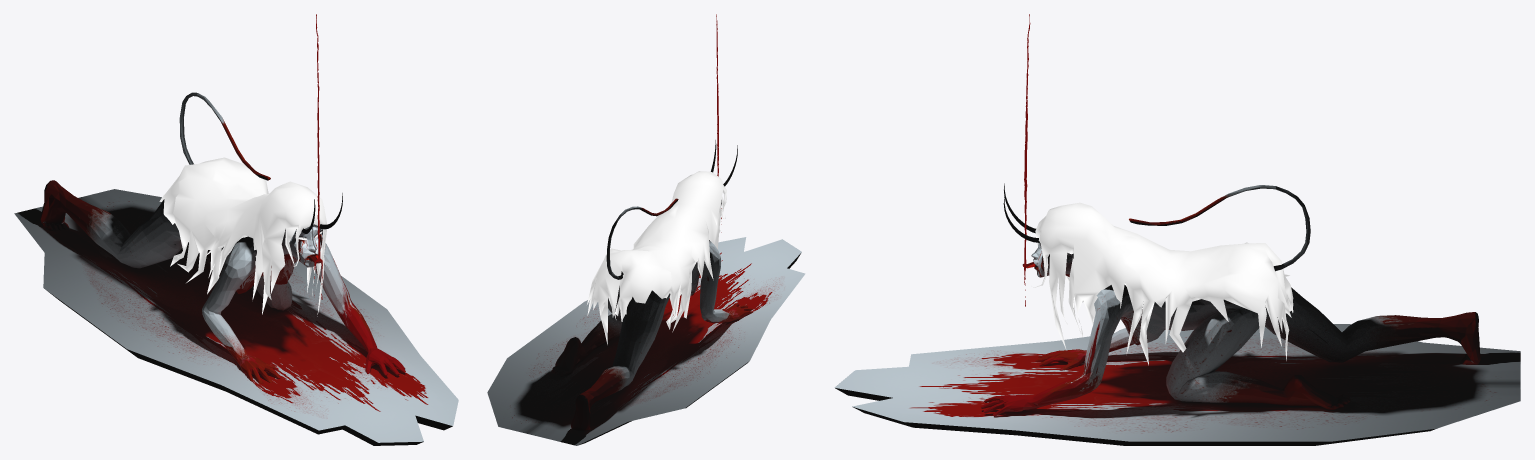
The picture shows the model from 3 angles, left to right: view 1: azimuth 30°, elevation 25°; view 2: azimuth 150°, elevation 25°; view 3: azimuth 270°, elevation 25°; orthographic projection. The views are drawn at different scales.
Parts seen in each view (by area): view 1: Plane, Desktop:Body.000, Desktop:Body.002, Cube; view 2: Plane, Desktop:Body.002, Desktop:Body.000; view 3: Plane, Desktop:Body.000, Desktop:Body.002.
Boxes of the visible parts, left/top/right/bottom form: Plane: left=14, top=189, right=458, bottom=445; Desktop:Body.000: left=40, top=92, right=405, bottom=383; Desktop:Body.002: left=159, top=157, right=330, bottom=316; Cube: left=314, top=14, right=322, bottom=299; Plane: left=487, top=237, right=805, bottom=445; Desktop:Body.002: left=587, top=171, right=726, bottom=344; Desktop:Body.000: left=552, top=198, right=752, bottom=430; Plane: left=834, top=324, right=1520, bottom=445; Desktop:Body.000: left=980, top=185, right=1480, bottom=416; Desktop:Body.002: left=1031, top=202, right=1293, bottom=365.
Bounding box in the file's own units: 7.68 × 11.47 × 18.97.
7 materials, 4 textured.
